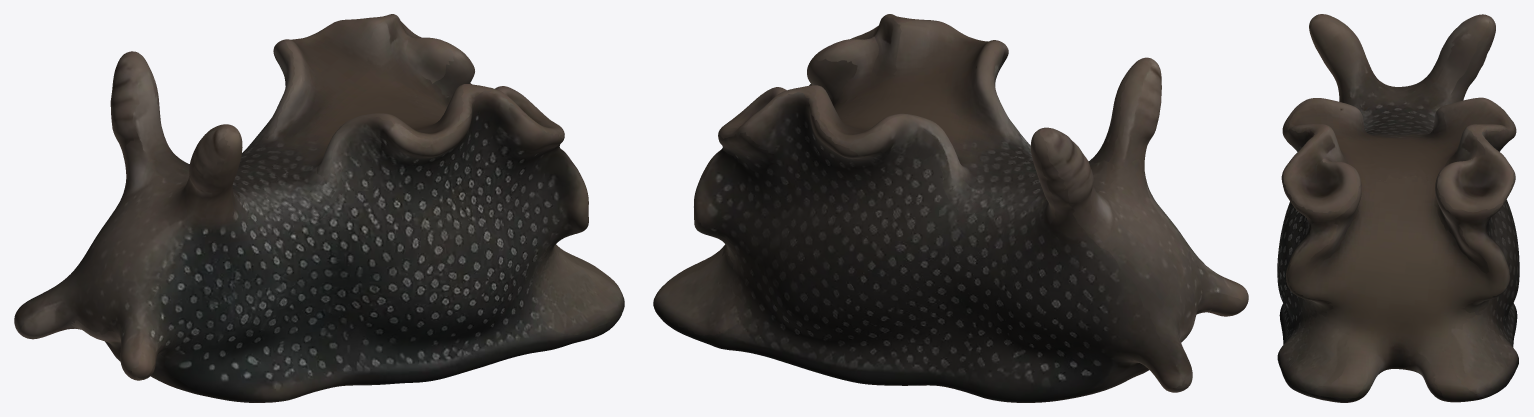
File: seahare.glb
The picture shows the model from 3 angles, left to right: view 1: azimuth 30°, elevation 25°; view 2: azimuth 150°, elevation 25°; view 3: azimuth 270°, elevation 25°; orthographic projection. The views are drawn at different scales.
Parts seen in each view (by area): view 1: tmpn14fi9ti.ply; view 2: tmpn14fi9ti.ply; view 3: tmpn14fi9ti.ply.
Part boxes in pixels (x1=…): tmpn14fi9ti.ply: x1=14, y1=14, x2=624, y2=402; tmpn14fi9ti.ply: x1=653, y1=14, x2=1248, y2=402; tmpn14fi9ti.ply: x1=1277, y1=14, x2=1519, y2=402.
Bounding box in the file's own units: 0.9877 × 0.5072 × 0.4776.
Materials: 1 (1 with a texture image).
